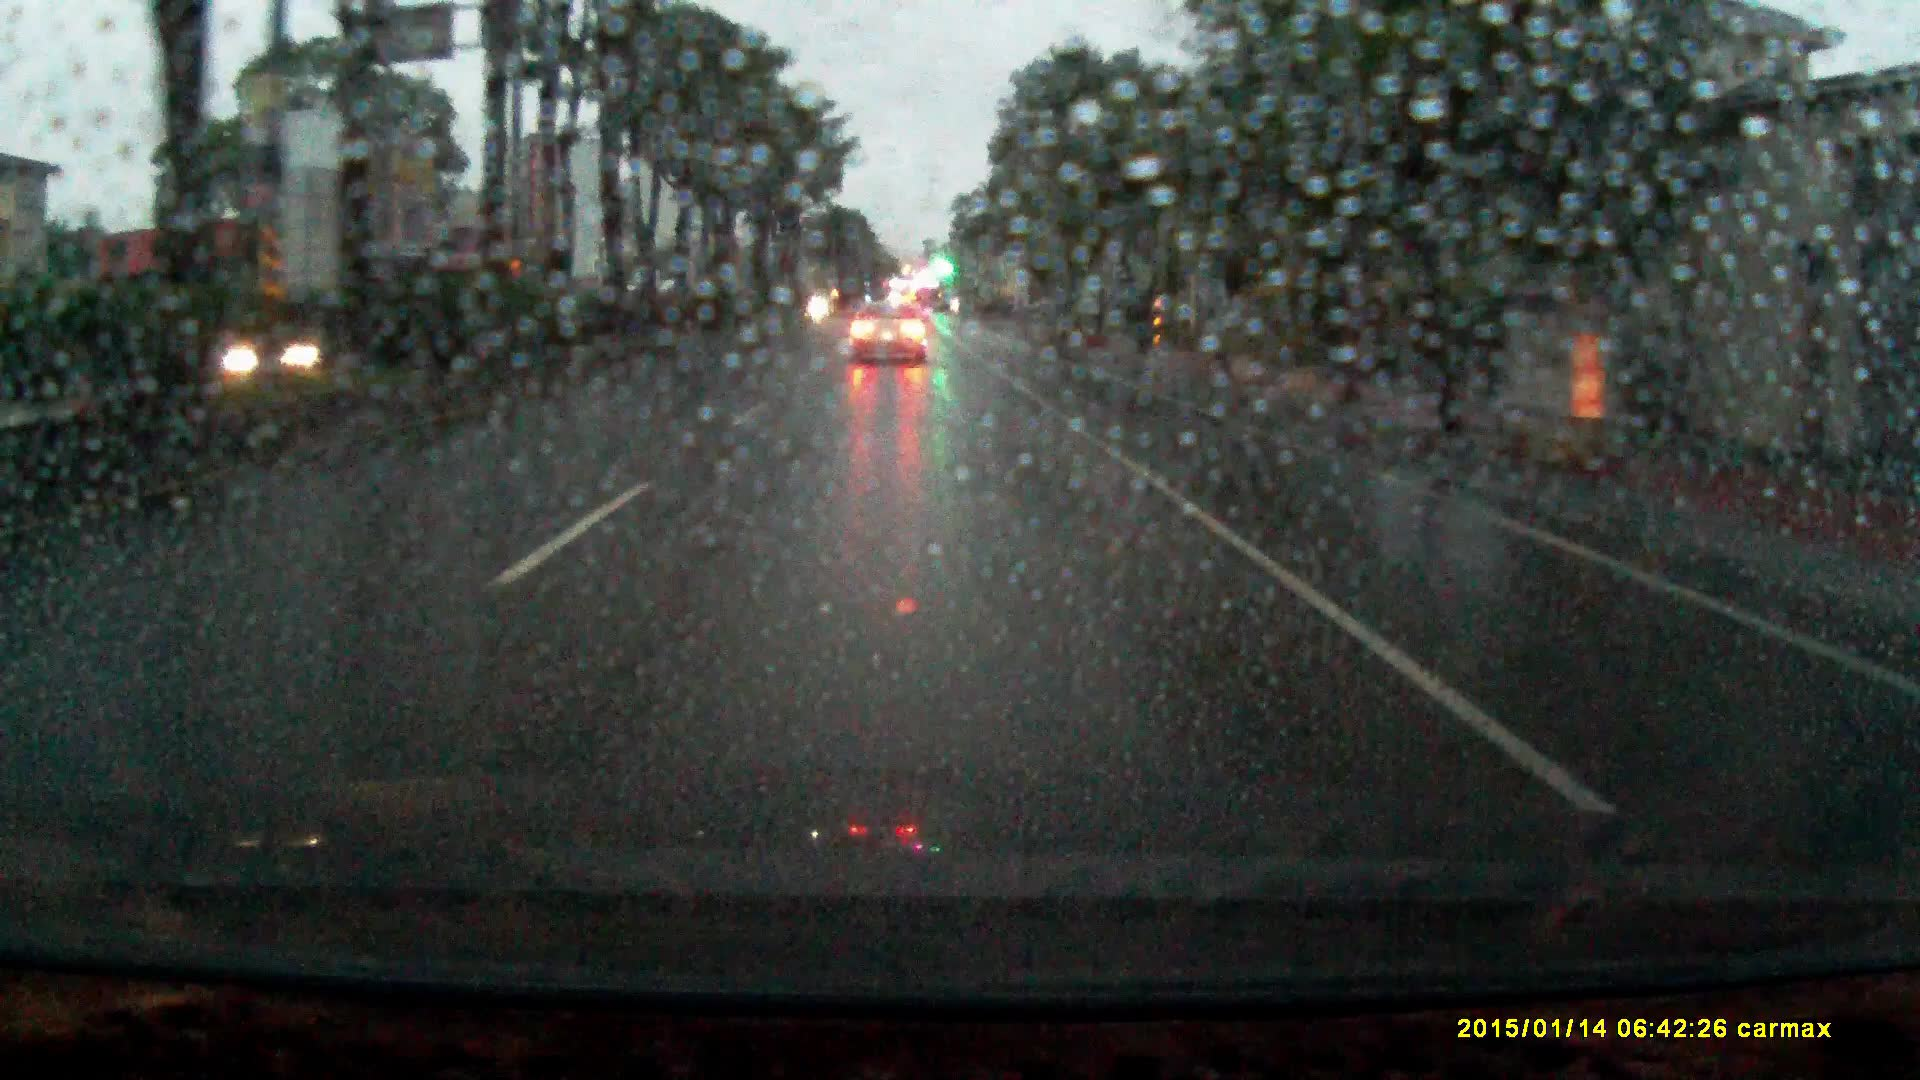vehicle: (847, 293, 930, 363)
